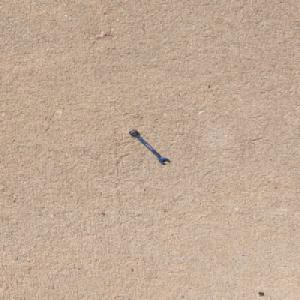Wrench: (128, 129, 170, 164)
